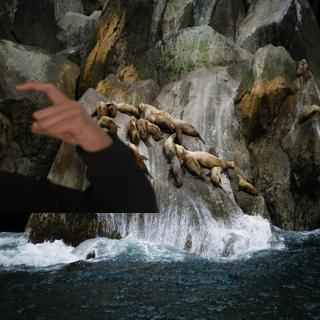WHY: (9, 77, 111, 151)
